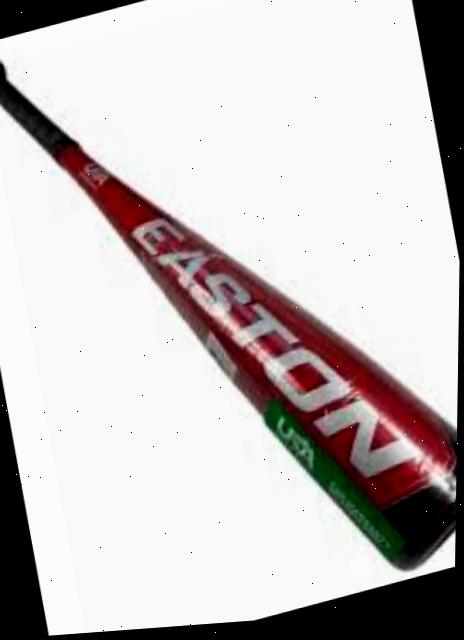baseball bat: (0, 60, 459, 587)
